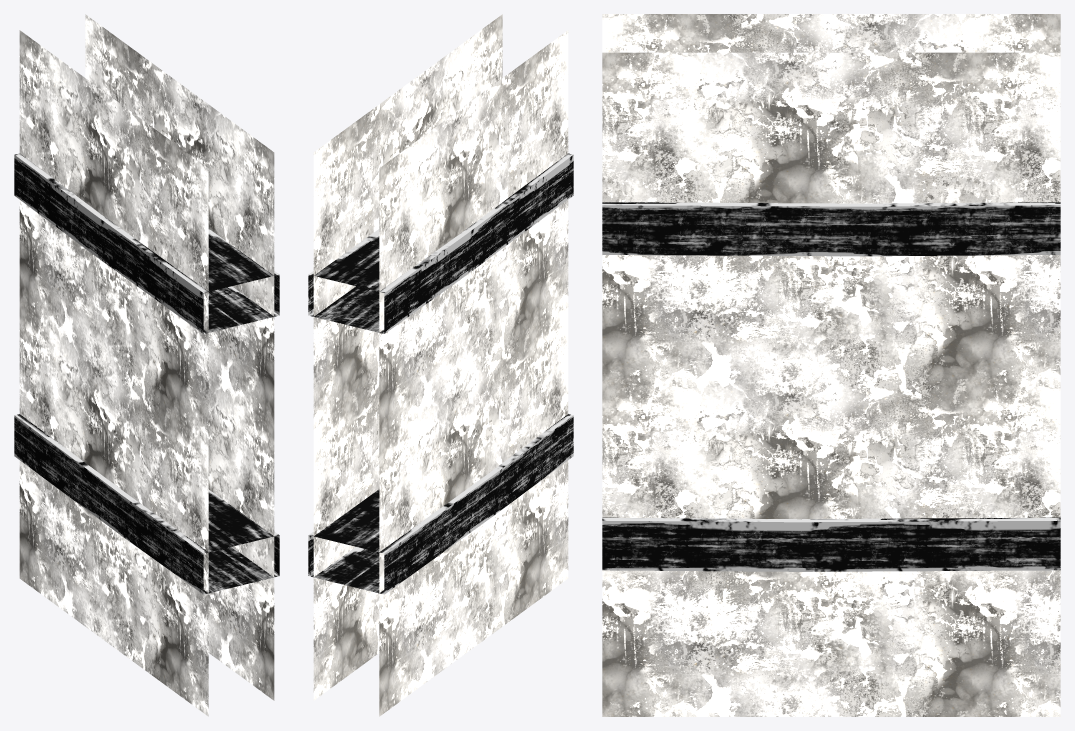
File: SM_wall_A_2-5x4_01_03.fbx
3 views of the same model, side by side, from view 1: azimuth 30°, elevation 25°; view 2: azimuth 150°, elevation 25°; view 3: azimuth 270°, elevation 25° (orthographic). The views are drawn at different scales.
Parts seen in each view (by area): view 1: SM_wall_A_2-5x4_01_03_LOD0; view 2: SM_wall_A_2-5x4_01_03_LOD0; view 3: SM_wall_A_2-5x4_01_03_LOD0.
Boxes of the visible parts, x1=… form: SM_wall_A_2-5x4_01_03_LOD0: x1=14, y1=14, x2=279, y2=716; SM_wall_A_2-5x4_01_03_LOD0: x1=308, y1=14, x2=573, y2=716; SM_wall_A_2-5x4_01_03_LOD0: x1=602, y1=14, x2=1060, y2=716.
Size of the model in its own units: 58 by 250 by 400.
3 materials, 3 textured.
